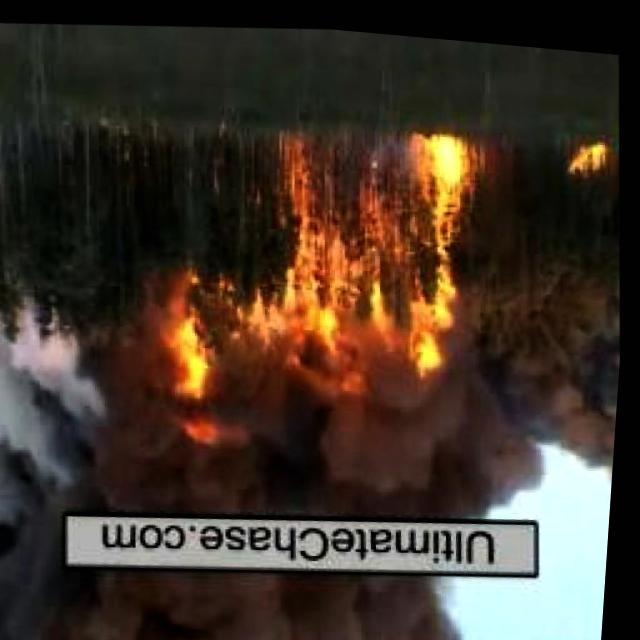helmet: (259, 111, 501, 397), (0, 534, 482, 640), (145, 260, 236, 454), (553, 118, 616, 167)
no_helmet: (0, 284, 624, 552)
